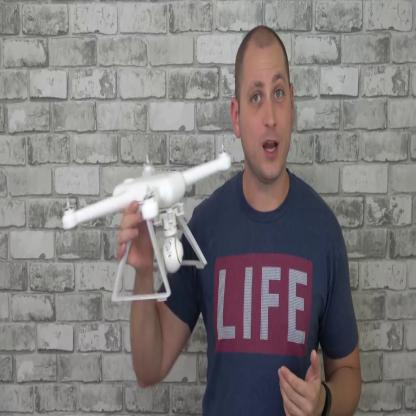drone: (58, 144, 233, 234)
